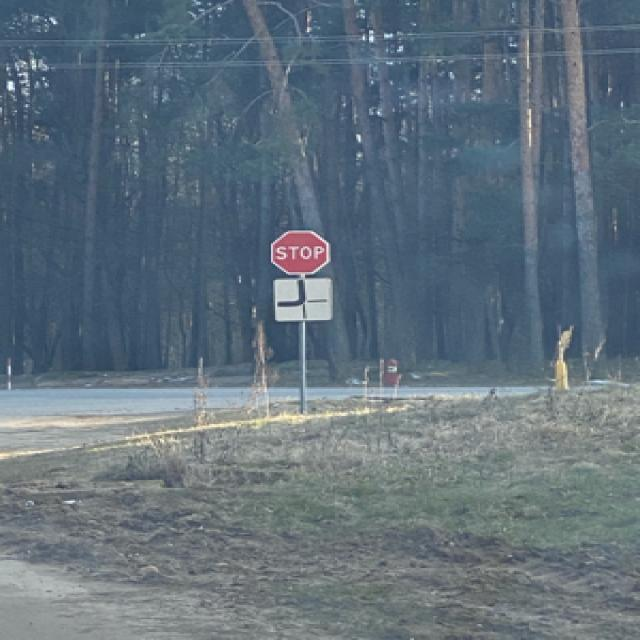stop: (269, 229, 326, 272)
